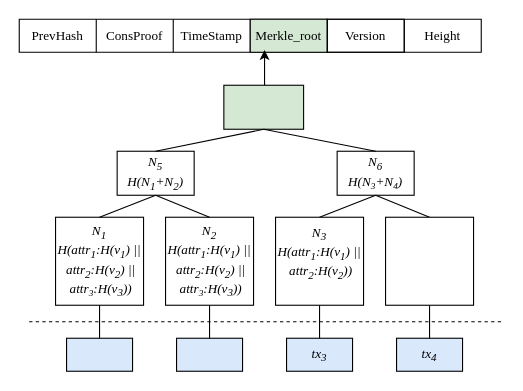
Some shapes in this 523 by 391 pixel diagram are drawn without their labels. The shapes that lost their labels are listed below. From the top down, each one's centre as x and y in pixels, then its label:
At (263,106): "N 7 H(N 5 +N 6 )".
At (429,260): "N 4 H(attr 1 :H(v 1 ) || attr 4 :H(v 4 ) || attr 3 :H(v 3 ) )".
At (99,354): "tx 1".
At (209,354): "tx 2".
